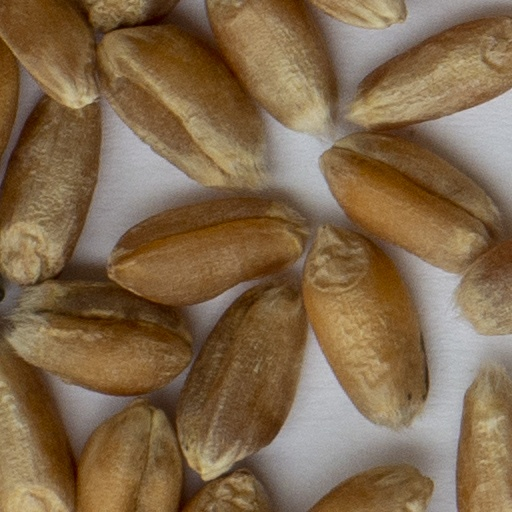Wheat-grain-poly: (0, 325, 77, 511), (75, 398, 185, 511), (300, 465, 431, 511), (184, 472, 271, 511)
